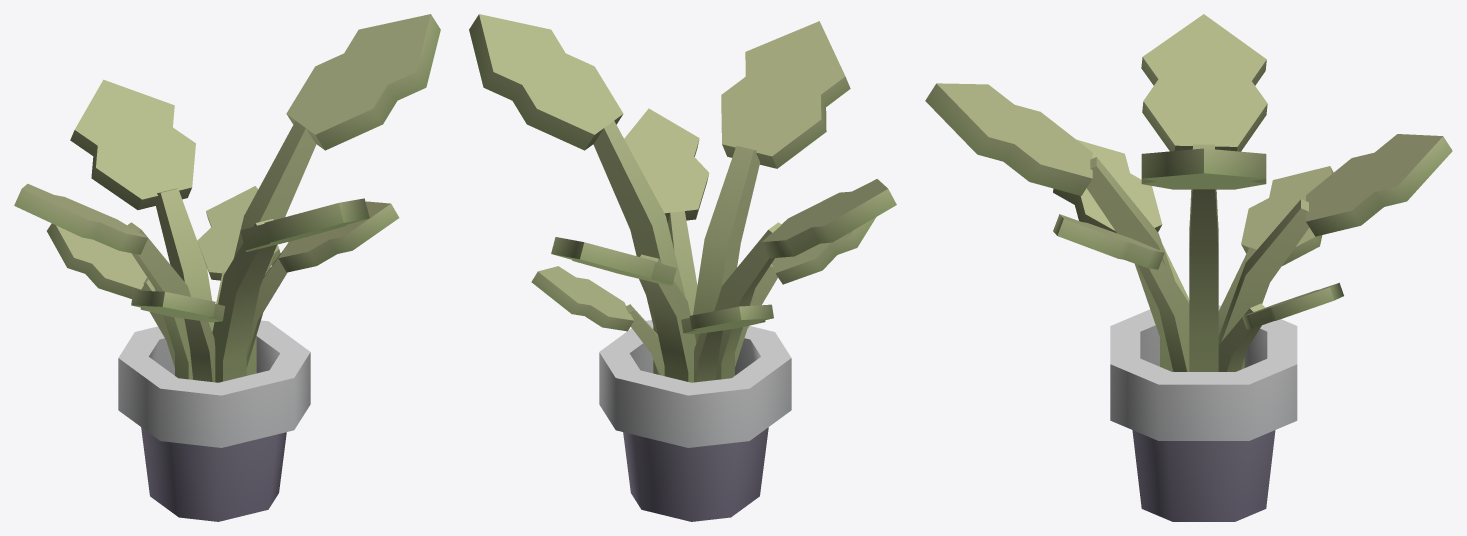
The model's file is plant-large-ridged.glb.
3 views of the same model, side by side, from view 1: azimuth 30°, elevation 25°; view 2: azimuth 150°, elevation 25°; view 3: azimuth 270°, elevation 25° (orthographic). The views are drawn at different scales.
Parts seen in each view (by area): view 1: plant-large-ridged; view 2: plant-large-ridged; view 3: plant-large-ridged.
Part boxes in pixels (bbox=[...]): plant-large-ridged: bbox=[14, 14, 440, 521]; plant-large-ridged: bbox=[469, 14, 896, 521]; plant-large-ridged: bbox=[925, 14, 1452, 521].
Bounding box in the file's own units: 0.6401 × 0.6124 × 0.6354.
